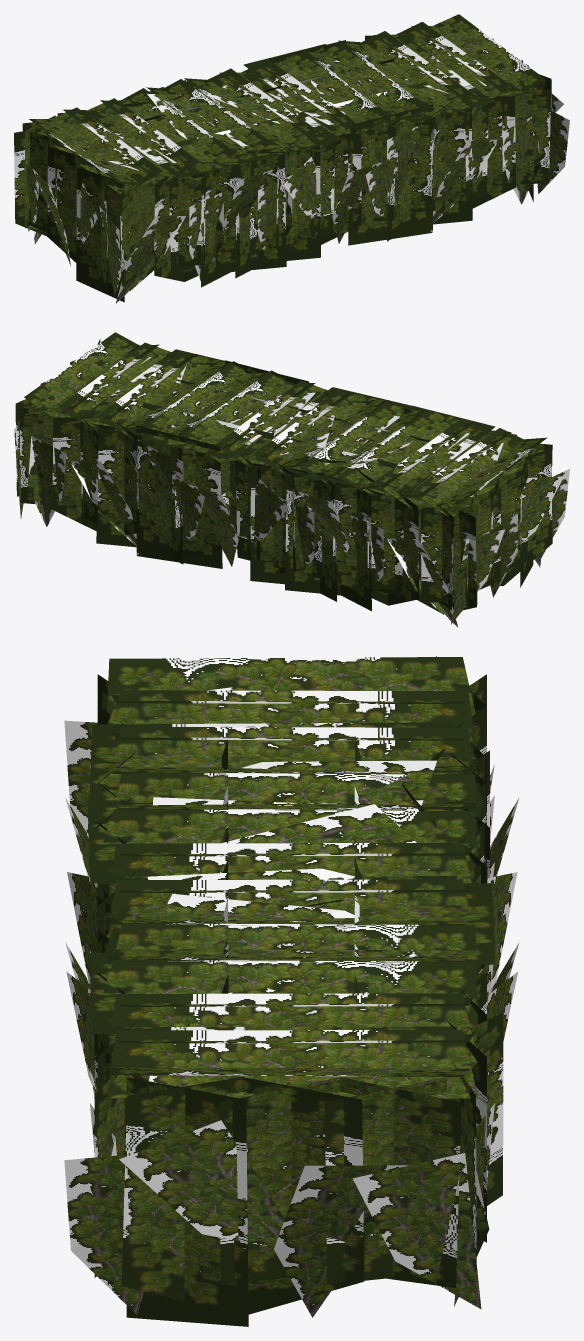
The model's file is Plant2.fbx.
3 views of the same model, one above another, from view 1: azimuth 30°, elevation 25°; view 2: azimuth 150°, elevation 25°; view 3: azimuth 270°, elevation 25° (orthographic). The views are drawn at different scales.
Visible parts, largest first — view 1: LV_Campagna_Tree_SG01_SM_HSH; view 2: LV_Campagna_Tree_SG01_SM_HSH; view 3: LV_Campagna_Tree_SG01_SM_HSH.
Part boxes in pixels (left/top/right/bottom): LV_Campagna_Tree_SG01_SM_HSH: left=14, top=14, right=569, bottom=303; LV_Campagna_Tree_SG01_SM_HSH: left=14, top=332, right=569, bottom=626; LV_Campagna_Tree_SG01_SM_HSH: left=64, top=656, right=519, bottom=1326.
Bounding box in the file's own units: 1.03 × 0.2765 × 0.4353.
Materials: 2 (2 with a texture image).
